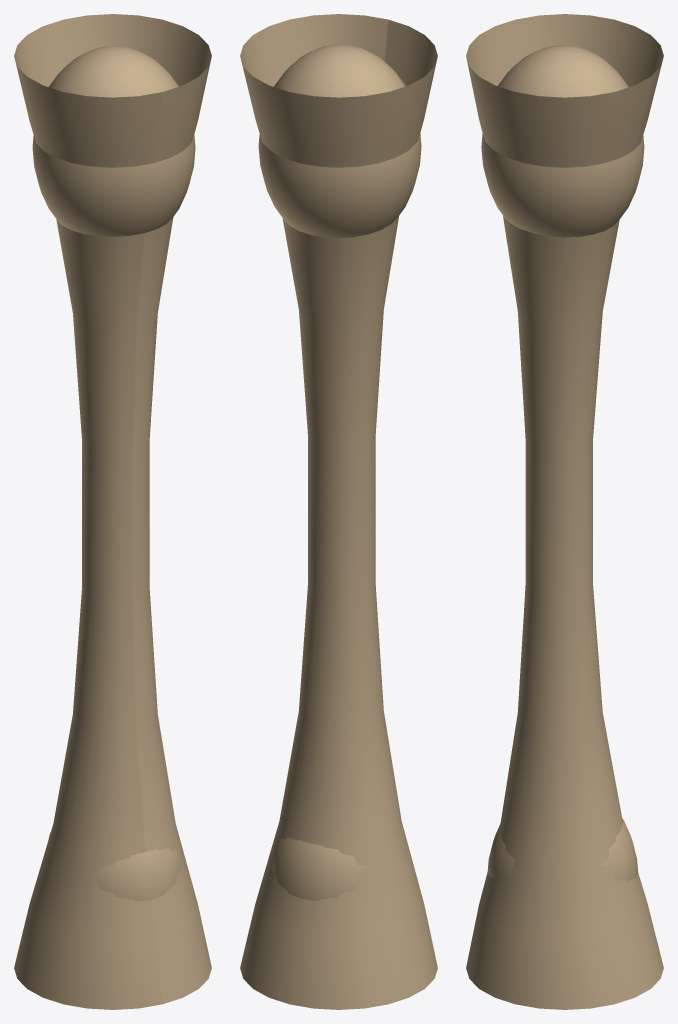
Rendered from right_metatarsal_4.glb.
The picture shows the model from 3 angles, left to right: view 1: azimuth 30°, elevation 25°; view 2: azimuth 150°, elevation 25°; view 3: azimuth 270°, elevation 25°; orthographic projection.
Parts seen in each view (by area): view 1: right_metatarsal_4:diaphysis, right_metatarsal_4:proximal-envelope, right_metatarsal_4:distal-envelope; view 2: right_metatarsal_4:diaphysis, right_metatarsal_4:proximal-envelope, right_metatarsal_4:distal-envelope; view 3: right_metatarsal_4:diaphysis, right_metatarsal_4:proximal-envelope, right_metatarsal_4:distal-envelope.
Part boxes in pixels (x1,y1,x2,y2): right_metatarsal_4:diaphysis: (14, 14, 211, 1009); right_metatarsal_4:proximal-envelope: (32, 46, 195, 236); right_metatarsal_4:distal-envelope: (48, 833, 181, 901); right_metatarsal_4:diaphysis: (240, 14, 437, 1009); right_metatarsal_4:proximal-envelope: (258, 44, 421, 237); right_metatarsal_4:distal-envelope: (271, 837, 366, 900); right_metatarsal_4:diaphysis: (466, 14, 663, 1009); right_metatarsal_4:proximal-envelope: (481, 45, 644, 237); right_metatarsal_4:distal-envelope: (487, 818, 637, 881).
Size of the model in its own units: 0.0864 by 0.4416 by 0.0864.
